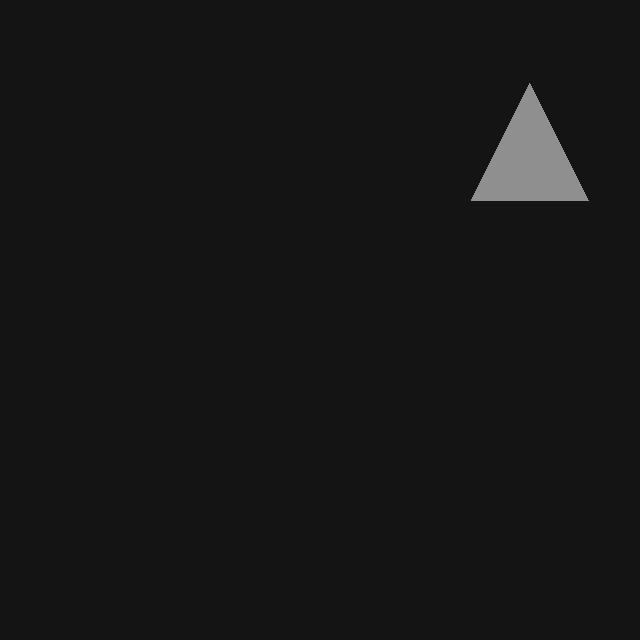triangle: (471, 83, 588, 200)
